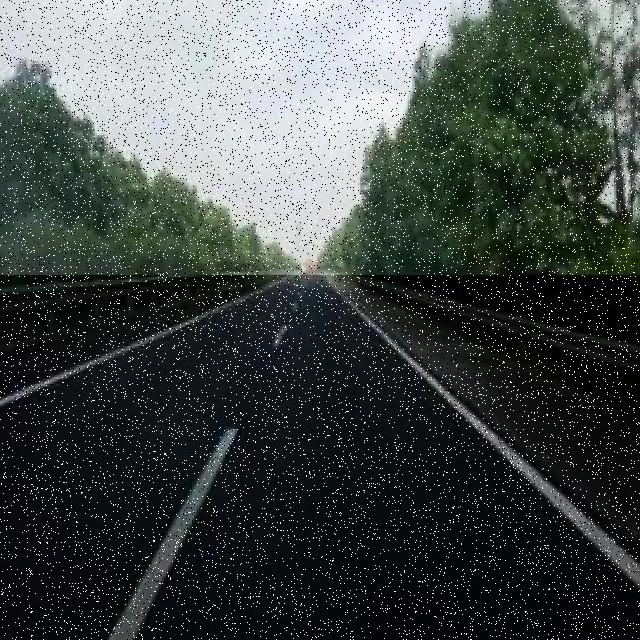clear-road: (0, 277, 640, 640)
